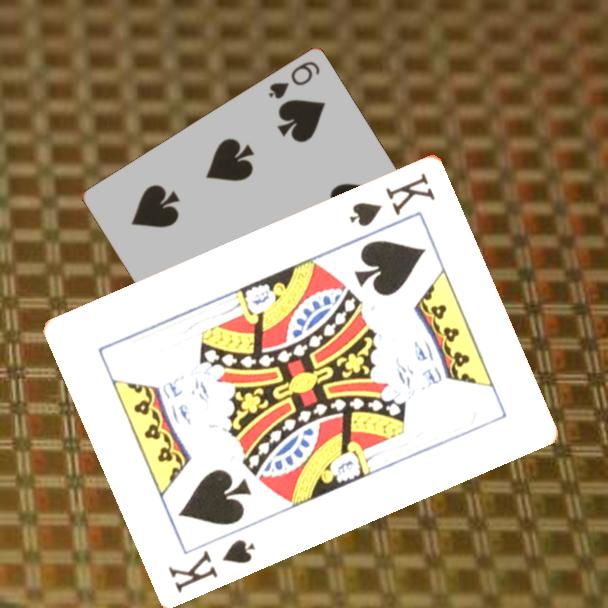s06: (264, 58, 323, 102)
s13: (345, 169, 438, 230), (165, 535, 258, 596)
